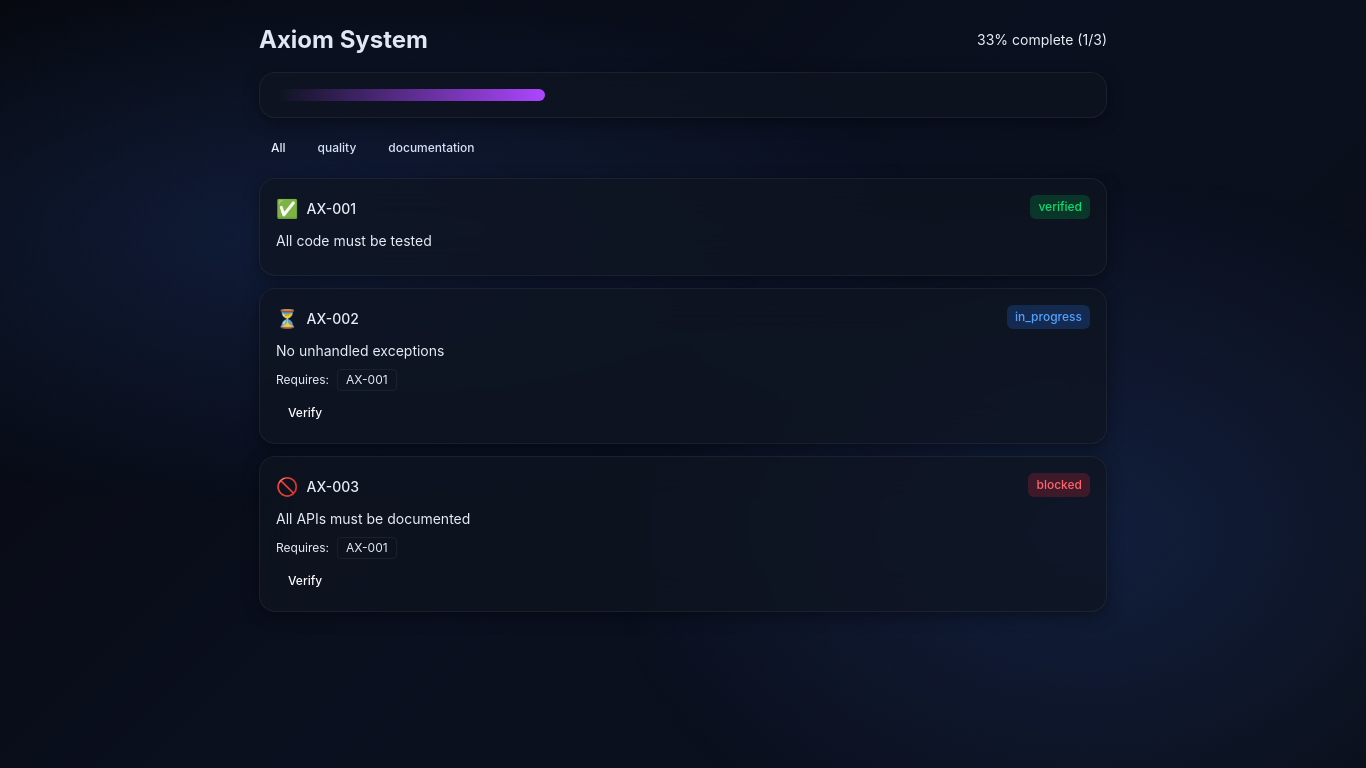
Test: AxiomsPanel › filters back to all
The image size is (1366, 768).
Expected: the text "All code must be tested" is shown, [276,232,432,249]
Step 1. Click the button "quality" → (337, 148), box [306,134,368,162]
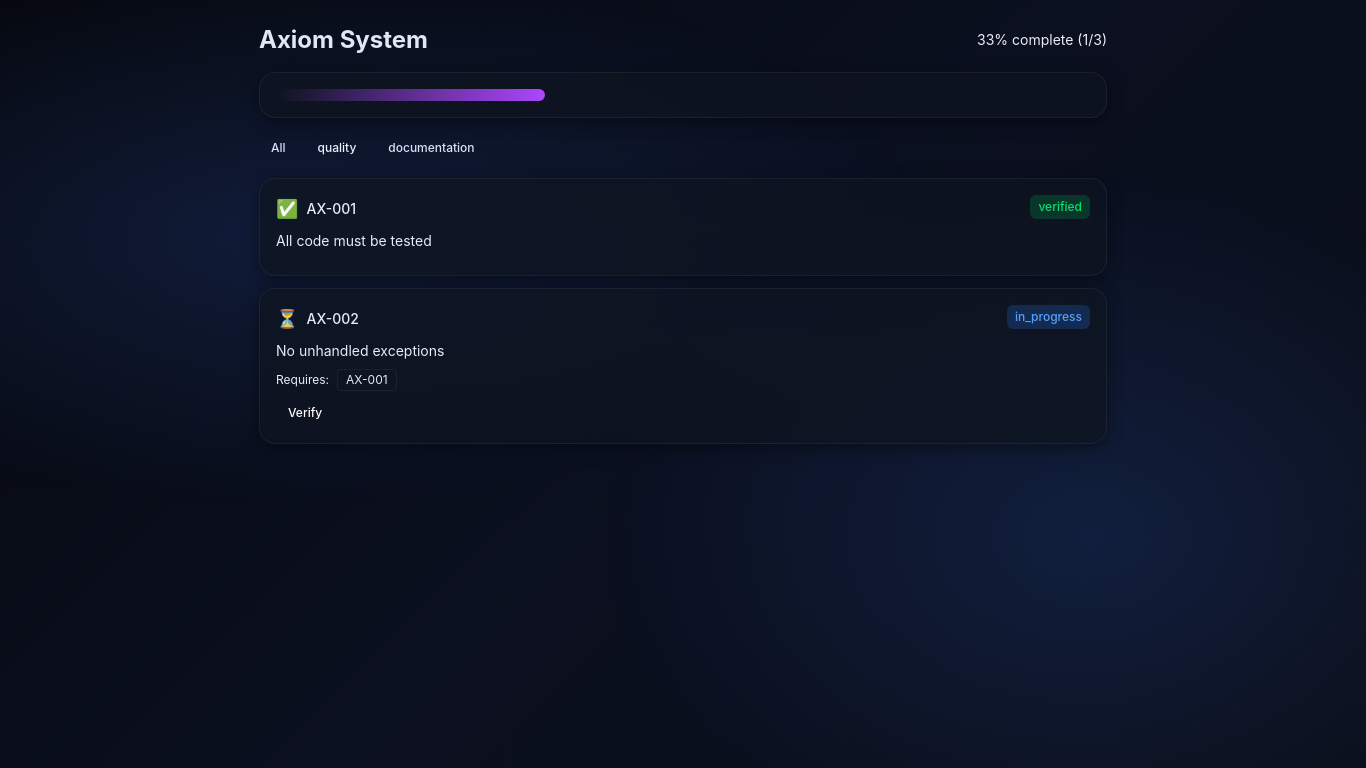
Step 2. Click the button "All" → (278, 148), box [259,134,298,162]
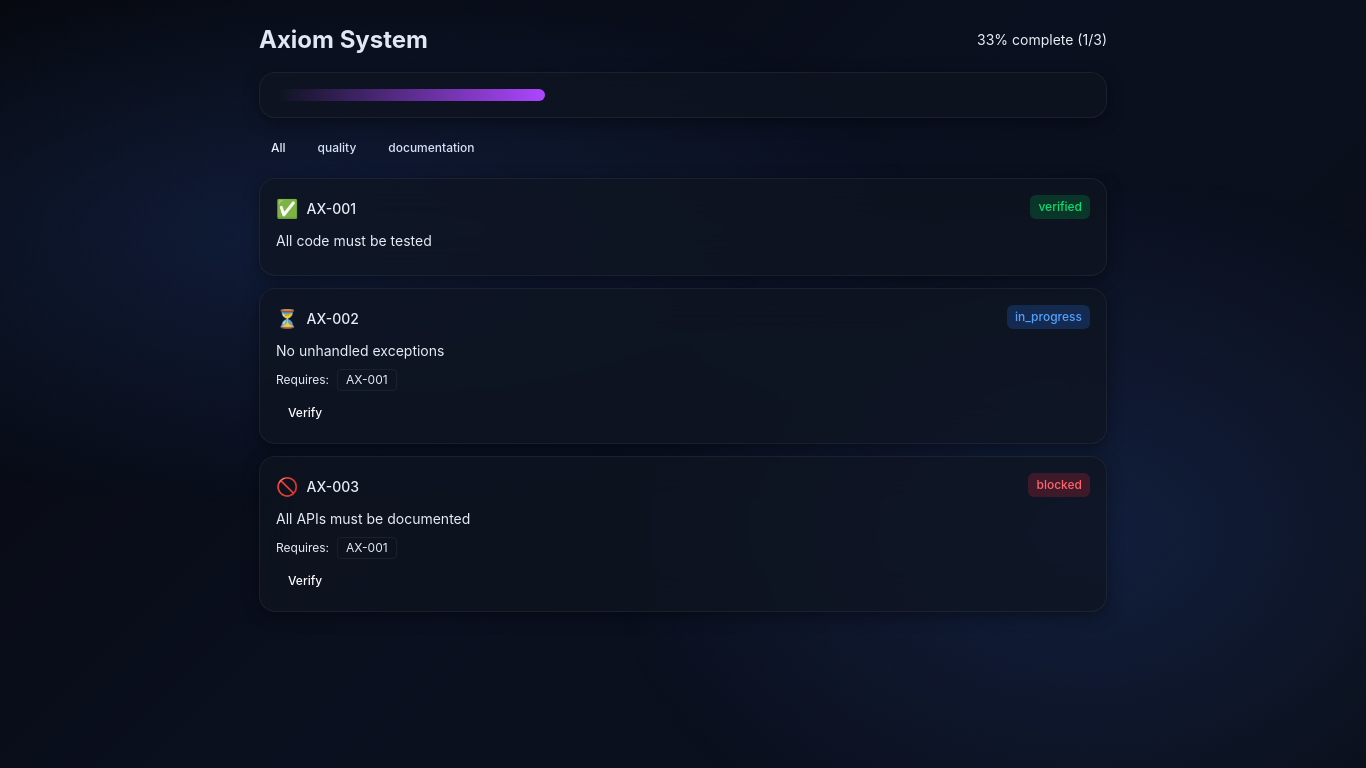
Expected: the text "All code must be tested" is shown, [276,232,432,249]
Expected: the text "All APIs must be documented" is shown, [276,510,470,527]
